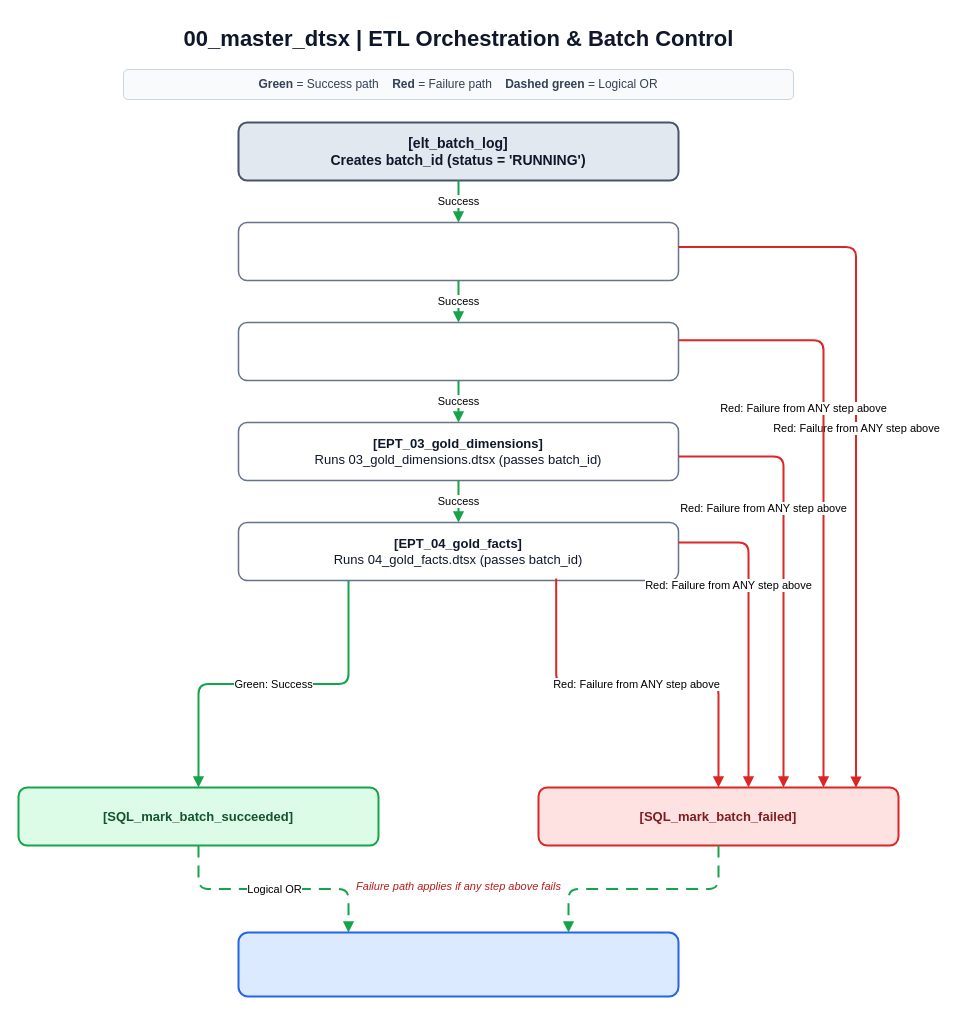
This 957x1014 diagram has some shape labels left out. Each missing label, with the centre of its shape:
[EPT_01_bronze_load] Runs 01_bronze_load.dtsx (passes batch_id): point (458, 251)
[EPT_02_silver_transform] Runs 02_silver_transform.dtsx (passes batch_id): point (458, 351)
[SQL_end_batch] Stamps end_ts timestamp: point (458, 964)
